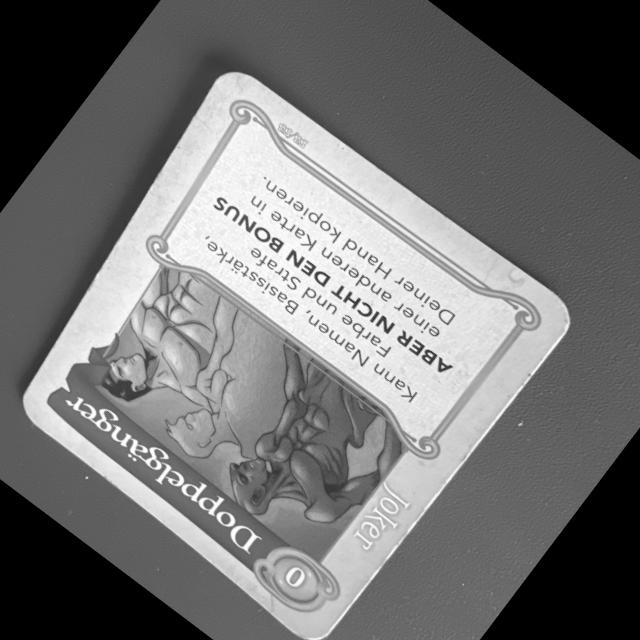Doppelganger: (10, 57, 582, 640)
